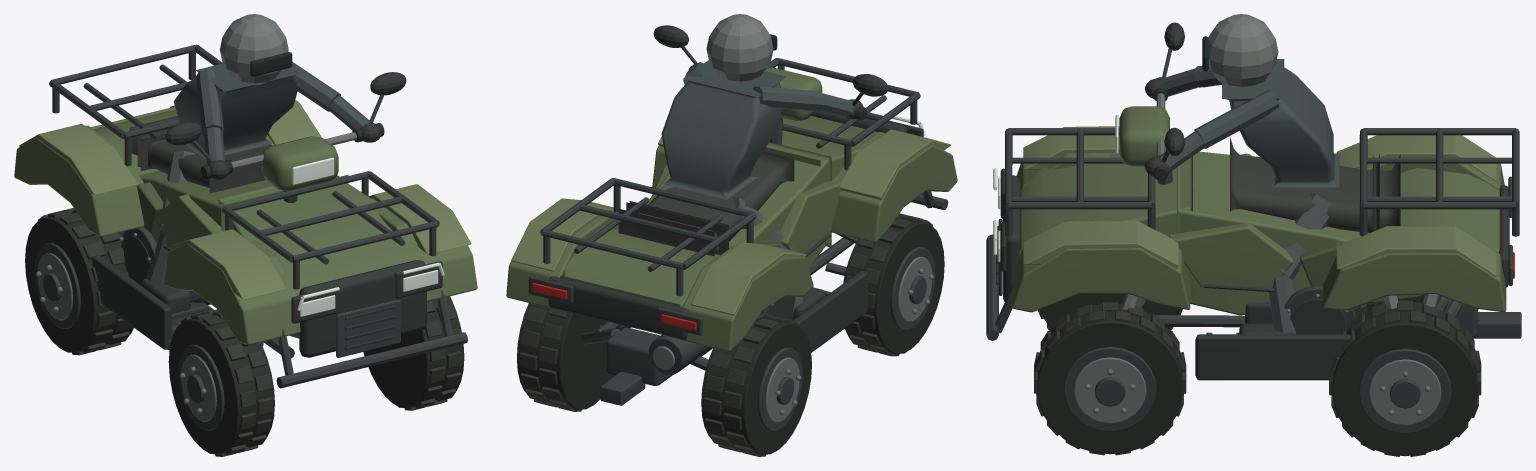
The model's file is atv.glb.
3 renders of one model, left to right at view 1: azimuth 30°, elevation 25°; view 2: azimuth 150°, elevation 25°; view 3: azimuth 270°, elevation 25°, orthographic. The views are drawn at different scales.
Parts seen in each view (by area): view 1: Front bonnet, Front integrated fender, Tire carcass.001, Rider_torso, Rear integrated fender, Tire carcass.003, Front black fascia, Tire carcass, Front fender shoulder, Rear fender shoulder, Footwell outer lip, Rider_helmet (+45 smaller); view 2: Rider_torso, Tire carcass.003, Rear deck, Front integrated fender, Tire carcass.002, Tire carcass.001, Rear integrated fender, Contoured saddle, Rear fender shoulder, Rider_helmet, Rear black fascia, Front fender shoulder (+36 smaller); view 3: Tire carcass.002, Tire carcass, Front integrated fender.001, Rider_torso, Rear integrated fender.001, Central tank, Front bonnet, Footwell outer lip.001, Contoured saddle, Front side fairing.001, Rear deck, Front fender shoulder.001 (+42 smaller).
Part boxes in pixels (x1,y1,x2,y2): Front bonnet: [217, 176, 417, 338]; Front integrated fender: [164, 231, 300, 345]; Tire carcass.001: [168, 313, 274, 454]; Rider_torso: [173, 63, 301, 159]; Rear integrated fender: [14, 125, 144, 236]; Tire carcass.003: [25, 211, 133, 353]; Front black fascia: [299, 260, 426, 357]; Tire carcass: [363, 296, 464, 408]; Front fender shoulder: [170, 229, 286, 299]; Rear fender shoulder: [19, 123, 137, 194]; Footwell outer lip: [92, 255, 171, 349]; Rider_helmet: [219, 14, 288, 85]; Rider_torso: [661, 60, 786, 199]; Tire carcass.003: [701, 317, 811, 454]; Rear deck: [560, 229, 719, 307]; Front integrated fender: [830, 132, 957, 242]; Tire carcass.002: [517, 303, 613, 409]; Tire carcass.001: [843, 217, 944, 354]; Rear integrated fender: [680, 245, 813, 351]; Contoured saddle: [626, 151, 794, 254]; Rear fender shoulder: [691, 242, 806, 315]; Rider_helmet: [706, 14, 773, 82]; Rear black fascia: [548, 276, 689, 339]; Front fender shoulder: [840, 129, 950, 200]; Tire carcass.002: [1332, 302, 1478, 456]; Tire carcass: [1037, 304, 1183, 454]; Front integrated fender.001: [1012, 220, 1190, 312]; Rider_torso: [1222, 59, 1339, 187]; Rear integrated fender.001: [1323, 227, 1506, 312]; Central tank: [1177, 151, 1377, 315]; Front bonnet: [1019, 152, 1192, 257]; Footwell outer lip.001: [1196, 334, 1350, 380]; Contoured saddle: [1230, 137, 1379, 233]; Front side fairing.001: [1169, 222, 1293, 287]; Rear deck: [1361, 168, 1500, 309]; Front fender shoulder.001: [1023, 221, 1178, 268].
Bounding box in the file's own units: 1.37 × 1.83 × 2.32.
